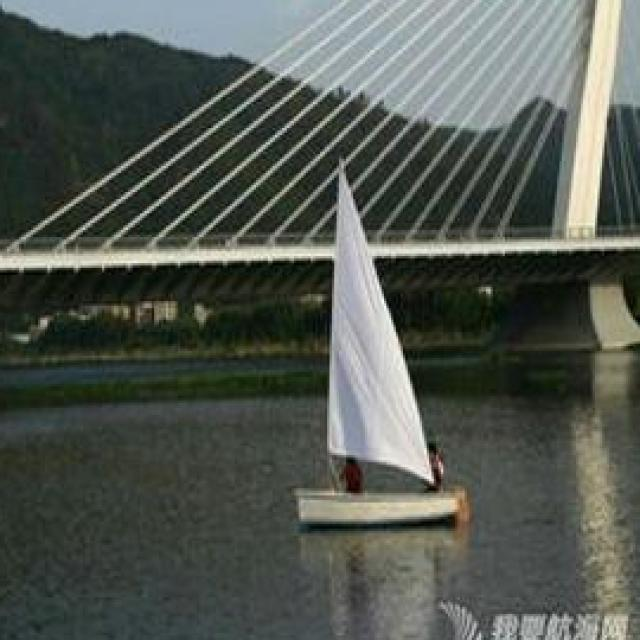sailboat: (285, 147, 471, 530)
